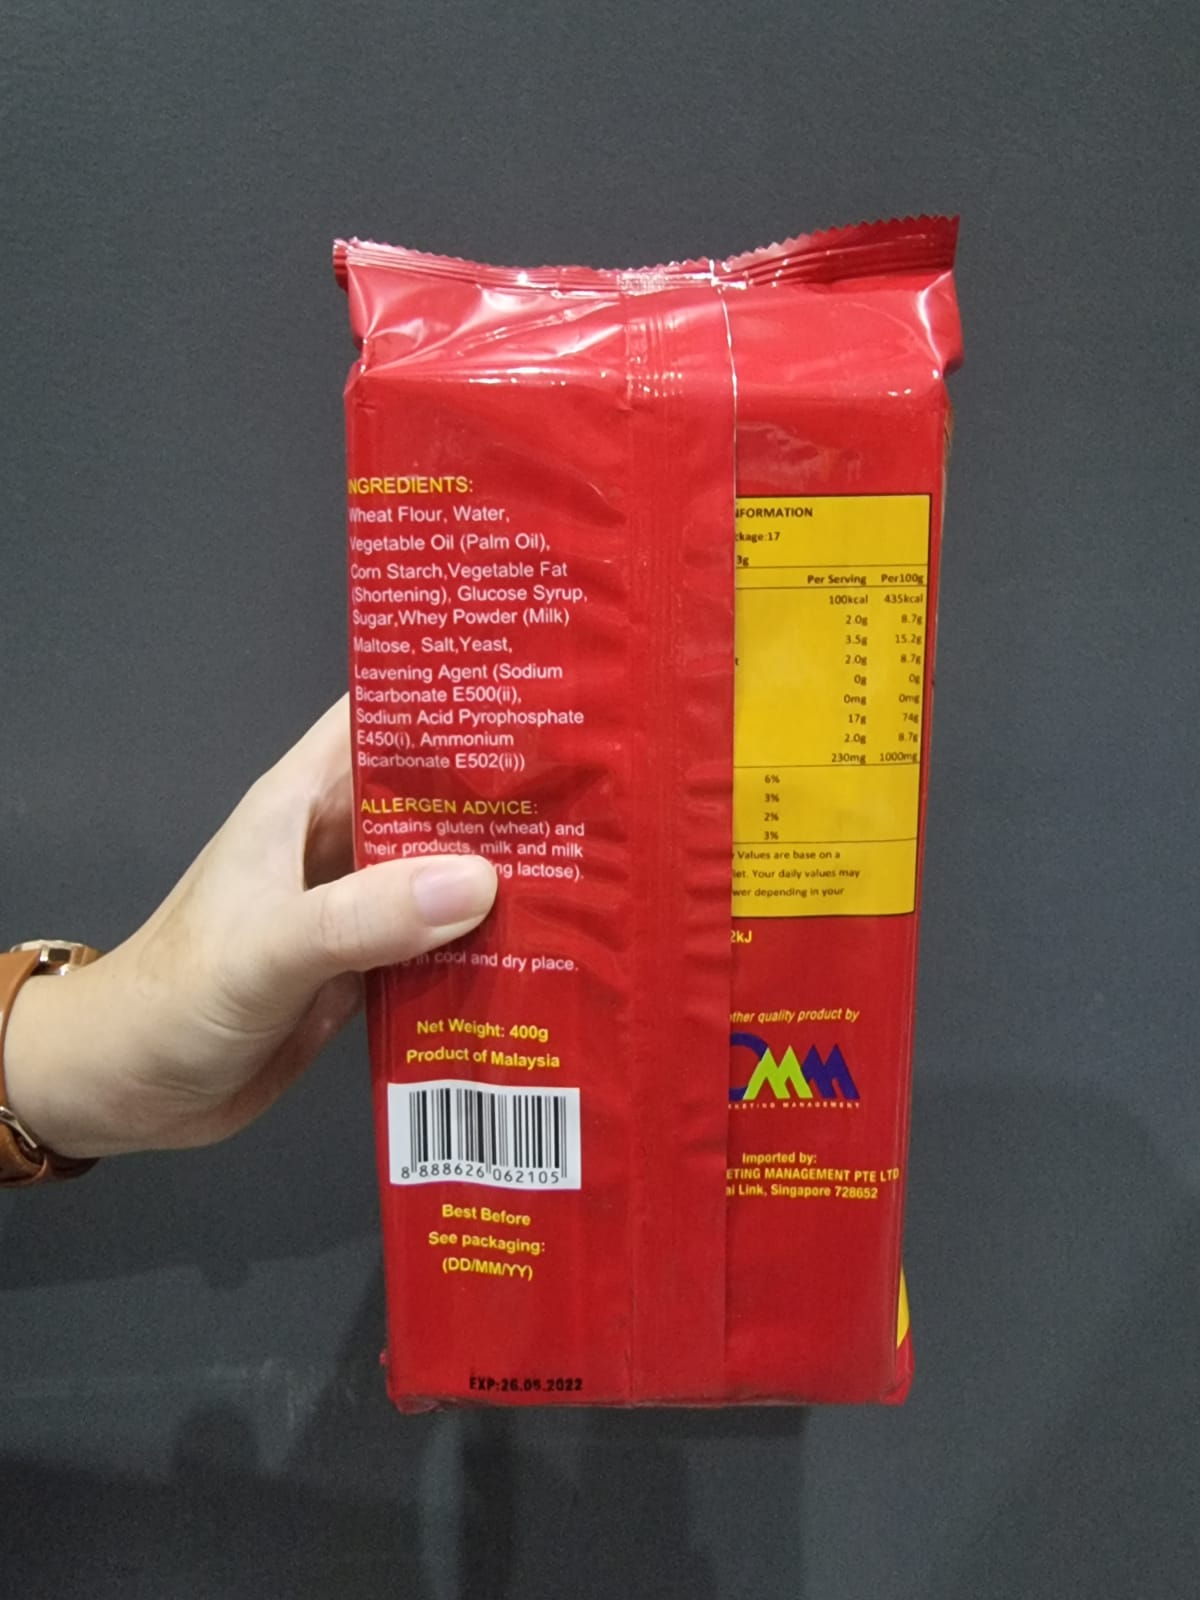Biscuits: (361, 374, 918, 1367)
